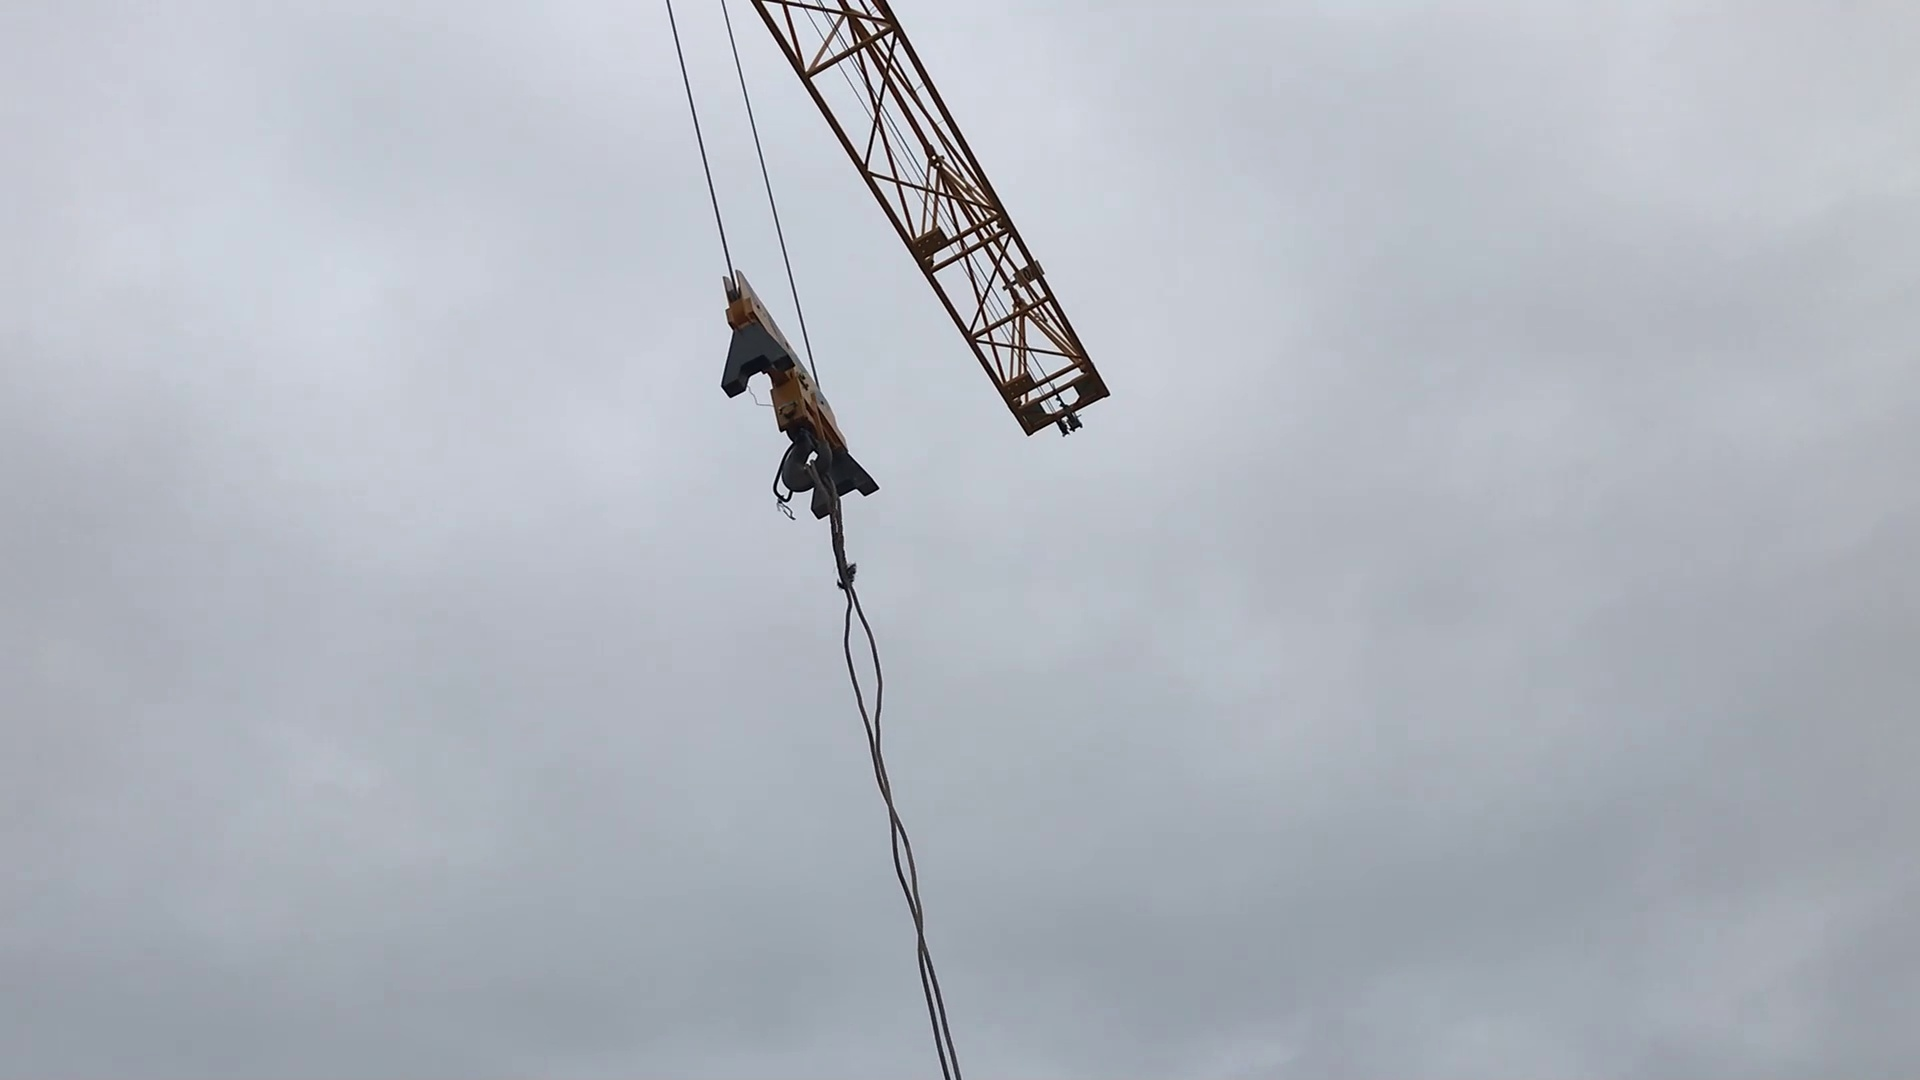hook: (705, 266, 889, 558)
